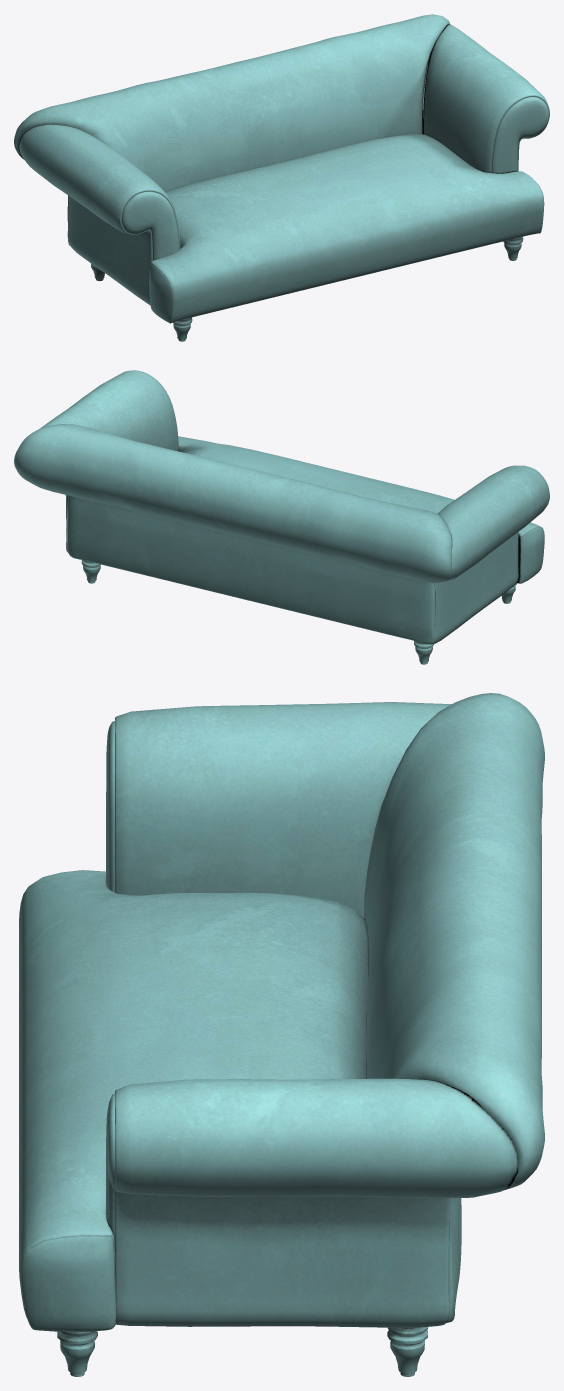
File: Complete.glb
3 renders of one model, top to bottom at view 1: azimuth 30°, elevation 25°; view 2: azimuth 150°, elevation 25°; view 3: azimuth 270°, elevation 25°, orthographic. The views are drawn at different scales.
Parts seen in each view (by area): view 1: GBF000013_02_Cushion; view 2: GBF000013_02_Cushion; view 3: GBF000013_02_Cushion.
Boxes of the visible parts, box(x1,y1,x2,y2) form: GBF000013_02_Cushion: box(14, 14, 549, 341); GBF000013_02_Cushion: box(14, 370, 549, 664); GBF000013_02_Cushion: box(19, 693, 544, 1376).
Bounding box in the file's own units: 2.32 × 0.8299 × 1.2.
Materials: 1 (1 with a texture image).
